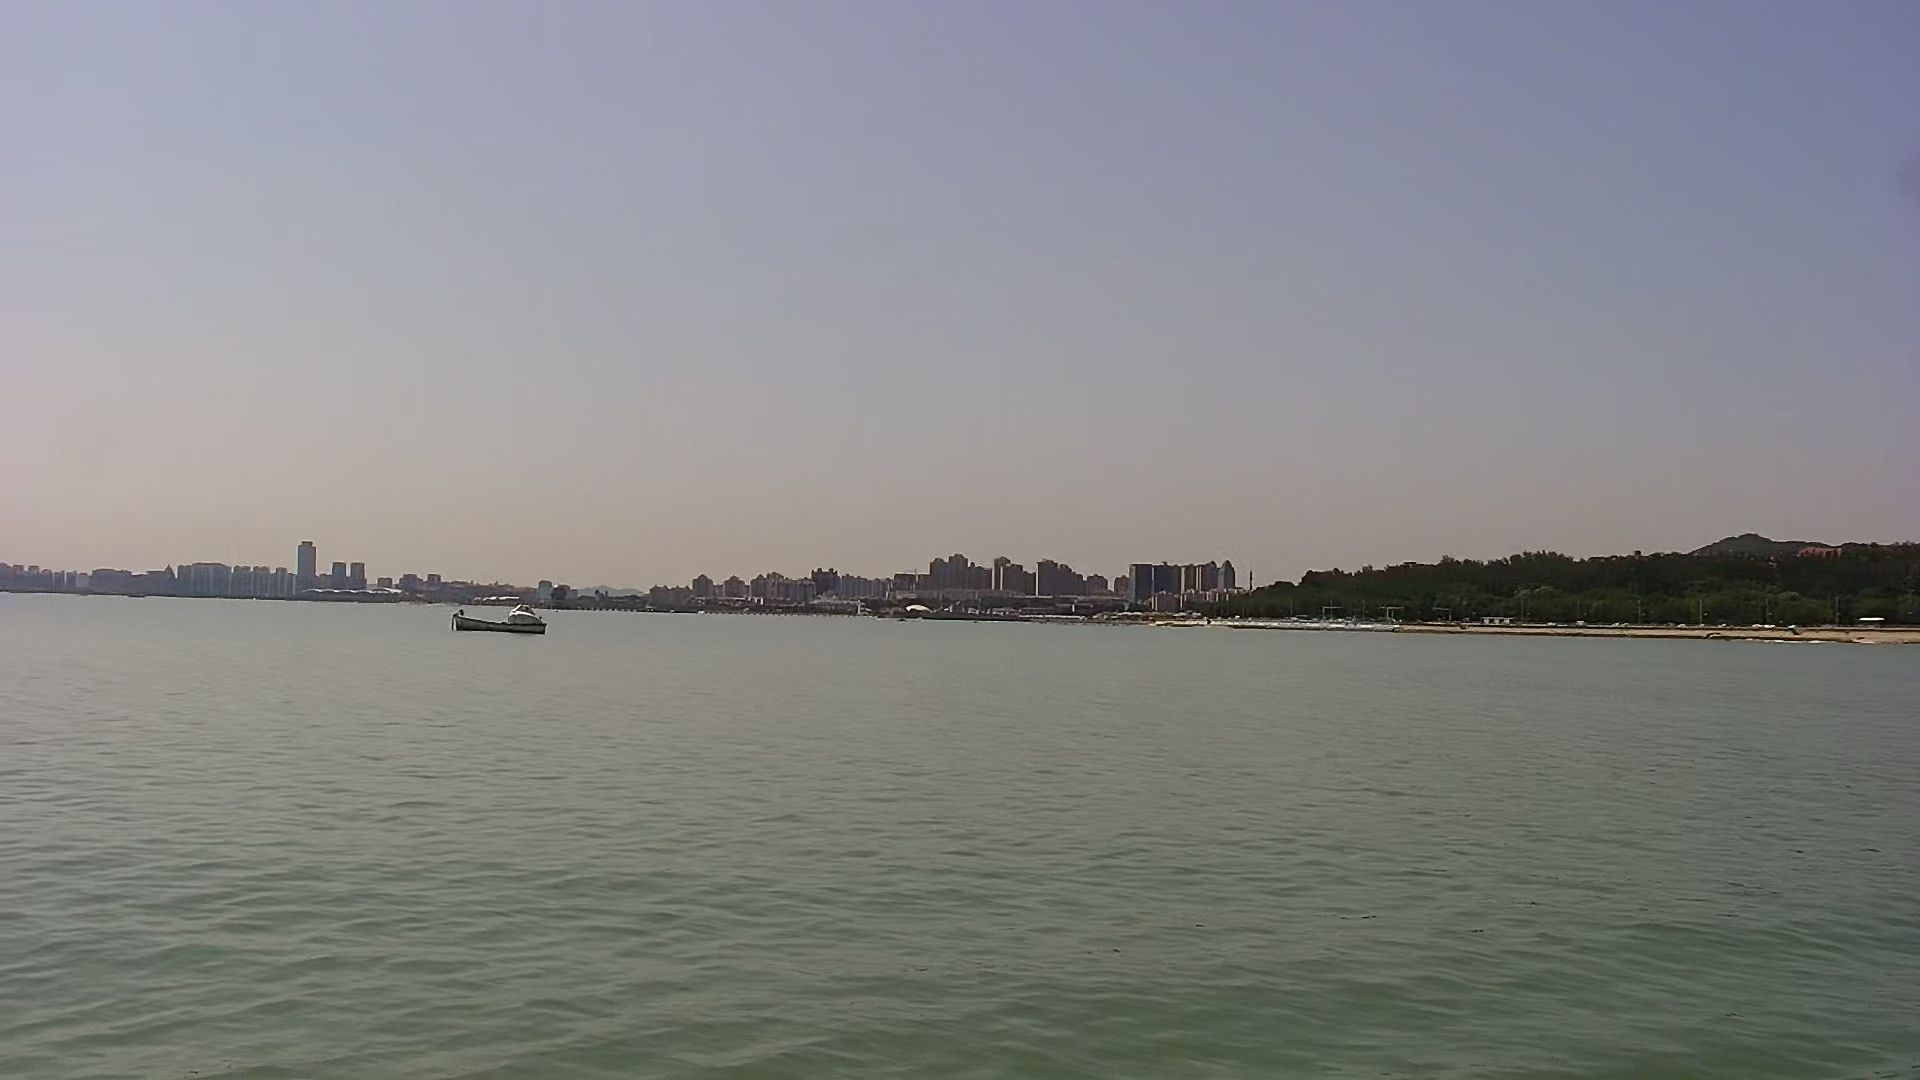boat: (443, 599, 555, 640)
